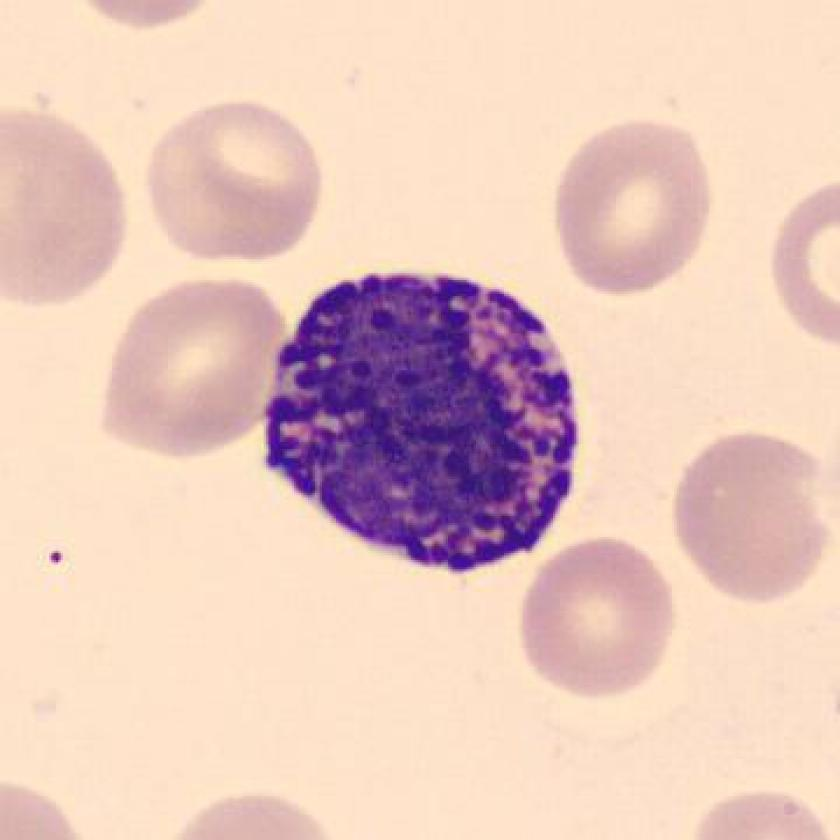basophil: (260, 269, 591, 575)
